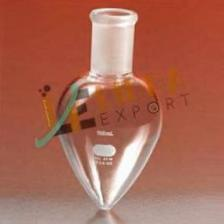Pear shaped flask: (49, 6, 168, 212)
